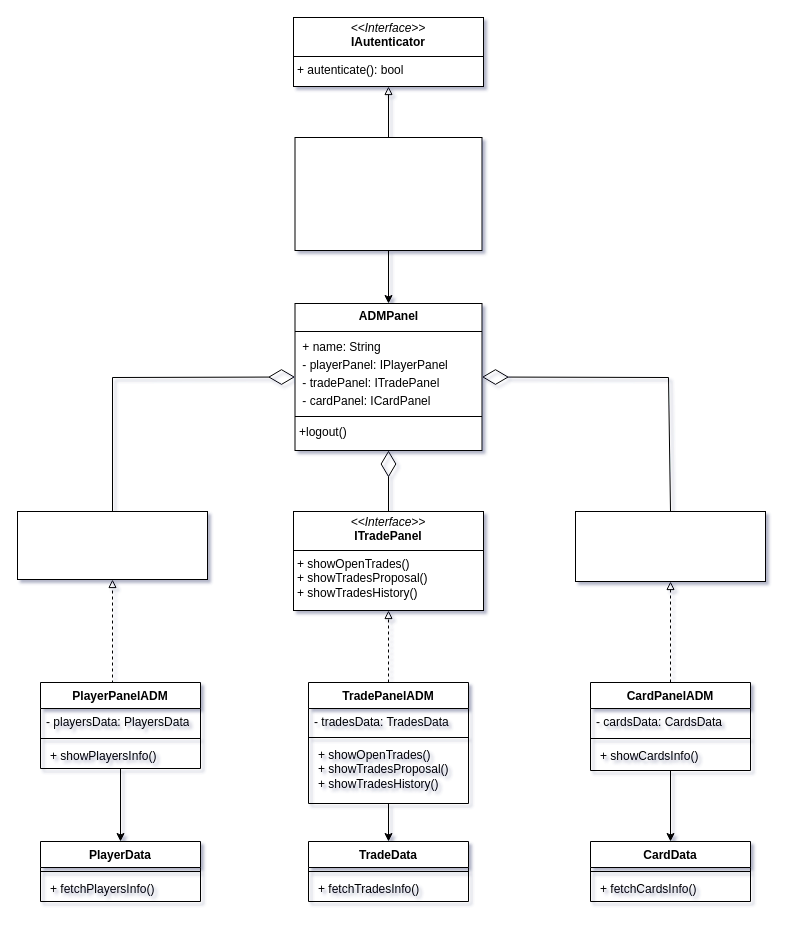
Image size: 789x928. Some labels were removed from this diagram. The centre of each missing label's shape, as x and y in pixels:
"<<Interface>> ICardPanel + showCardsInfo()" belongs at point 670,546.
"<<Interface>> IPlayerPanel + sh owPlayersInfo ()" belongs at point 112,545.
"LoginADM + password: String + name: String + autenticate(): bool" belongs at point 388,193.
